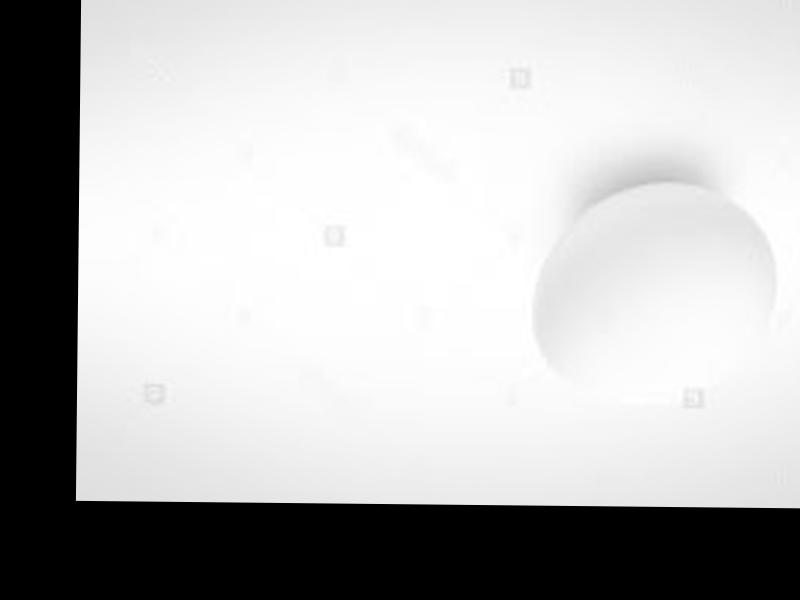Eggs: (534, 180, 780, 402)
